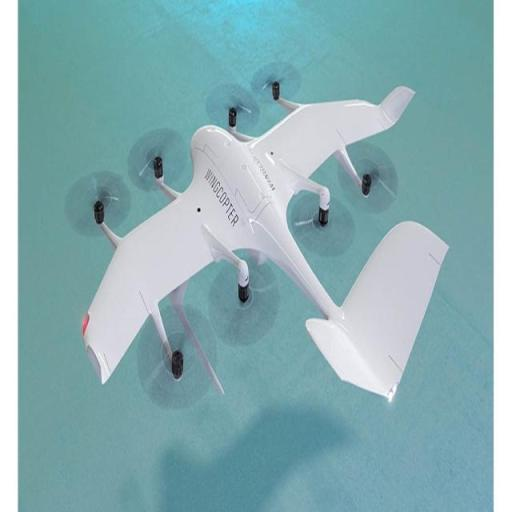uav: (67, 65, 452, 419)
